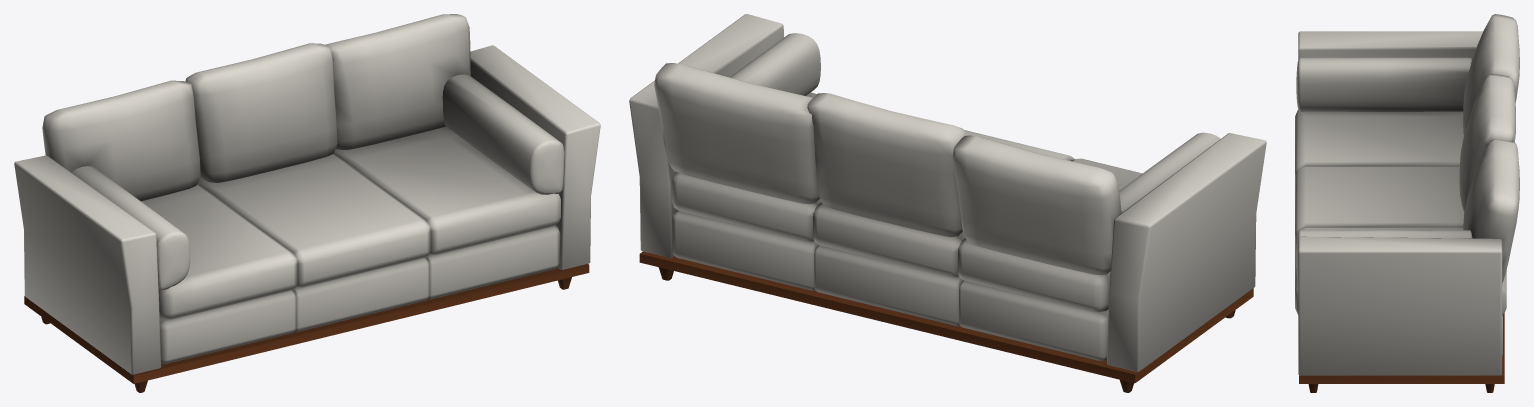
The model's file is Sofa_02.fbx.
The picture shows the model from 3 angles, left to right: view 1: azimuth 30°, elevation 25°; view 2: azimuth 150°, elevation 25°; view 3: azimuth 270°, elevation 25°; orthographic projection. The views are drawn at different scales.
Parts seen in each view (by area): view 1: Sofa_02 1; view 2: Sofa_02 1; view 3: Sofa_02 1.
Boxes of the visible parts, <box> form: Sofa_02 1: <box>14,14,600,392</box>; Sofa_02 1: <box>629,14,1266,392</box>; Sofa_02 1: <box>1295,14,1519,392</box>.
Bounding box in the file's own units: 1.84 × 0.7614 × 0.7926.
